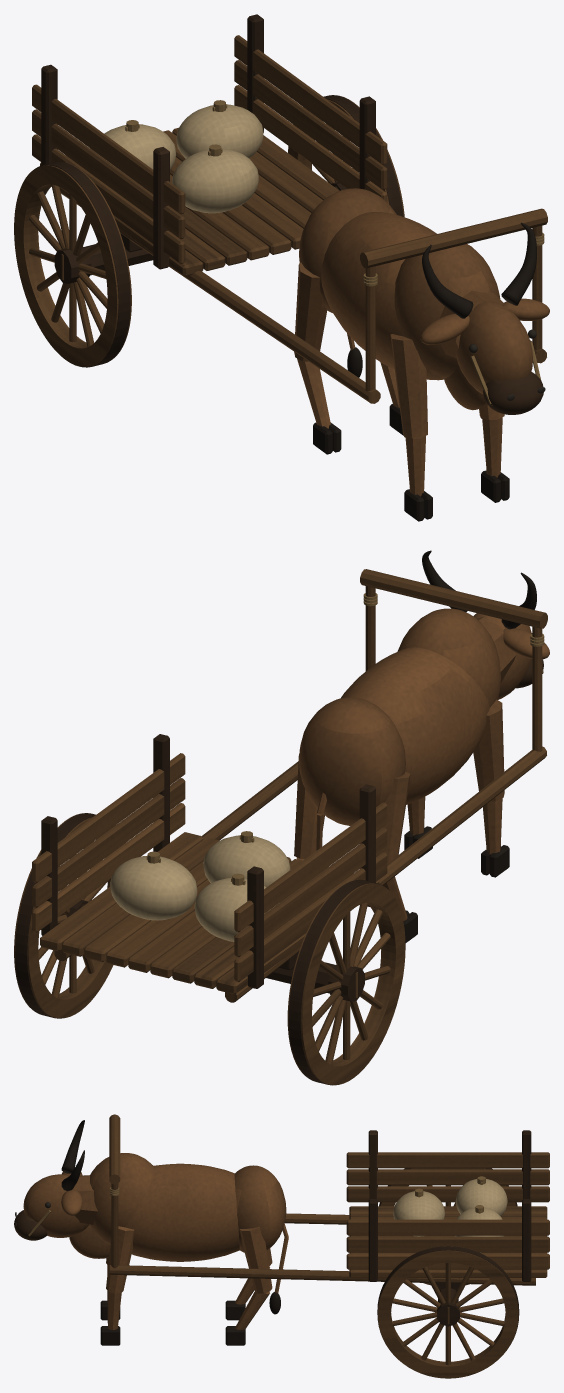
The model's file is cart-observation.glb.
The picture shows the model from 3 angles, top to bottom: view 1: azimuth 30°, elevation 25°; view 2: azimuth 150°, elevation 25°; view 3: azimuth 270°, elevation 25°; orthographic projection. The views are drawn at different scales.
Parts seen in each view (by area): view 1: detail_ox_cart_Cart warm seasoned timber, detail_ox_cart_Ox warm soft hide, detail_ox_cart_Cart dark endgrain, detail_ox_cart_Cart woven flax, detail_ox_cart_Ox dark horn and hoof, detail_ox_cart_Cart hemp bindings; view 2: detail_ox_cart_Cart warm seasoned timber, detail_ox_cart_Ox warm soft hide, detail_ox_cart_Cart dark endgrain, detail_ox_cart_Cart woven flax, detail_ox_cart_Ox dark horn and hoof, detail_ox_cart_Cart hemp bindings; view 3: detail_ox_cart_Cart warm seasoned timber, detail_ox_cart_Ox warm soft hide, detail_ox_cart_Cart dark endgrain, detail_ox_cart_Cart woven flax, detail_ox_cart_Ox dark horn and hoof, detail_ox_cart_Cart hemp bindings.
Part boxes in pixels (x1,y1,x2,y2): detail_ox_cart_Cart warm seasoned timber: (14, 35, 547, 403); detail_ox_cart_Ox warm soft hide: (294, 188, 549, 496); detail_ox_cart_Cart dark endgrain: (35, 14, 543, 414); detail_ox_cart_Cart woven flax: (91, 104, 263, 213); detail_ox_cart_Ox dark horn and hoof: (313, 222, 536, 521); detail_ox_cart_Cart hemp bindings: (125, 100, 544, 405); detail_ox_cart_Cart warm seasoned timber: (14, 569, 547, 1085); detail_ox_cart_Ox warm soft hide: (294, 608, 549, 920); detail_ox_cart_Cart dark endgrain: (15, 659, 543, 1085); detail_ox_cart_Cart woven flax: (110, 835, 290, 941); detail_ox_cart_Ox dark horn and hoof: (403, 550, 536, 943); detail_ox_cart_Cart hemp bindings: (146, 593, 544, 885); detail_ox_cart_Cart warm seasoned timber: (109, 1114, 549, 1378); detail_ox_cart_Ox warm soft hide: (23, 1153, 288, 1330); detail_ox_cart_Cart dark endgrain: (14, 1130, 531, 1354); detail_ox_cart_Cart woven flax: (393, 1179, 507, 1252); detail_ox_cart_Ox dark horn and hoof: (61, 1120, 280, 1345); detail_ox_cart_Cart hemp bindings: (28, 1176, 485, 1236).
Size of the model in its own units: 2.24 by 2.07 by 5.14.
Materials: 8 (7 with a texture image).
